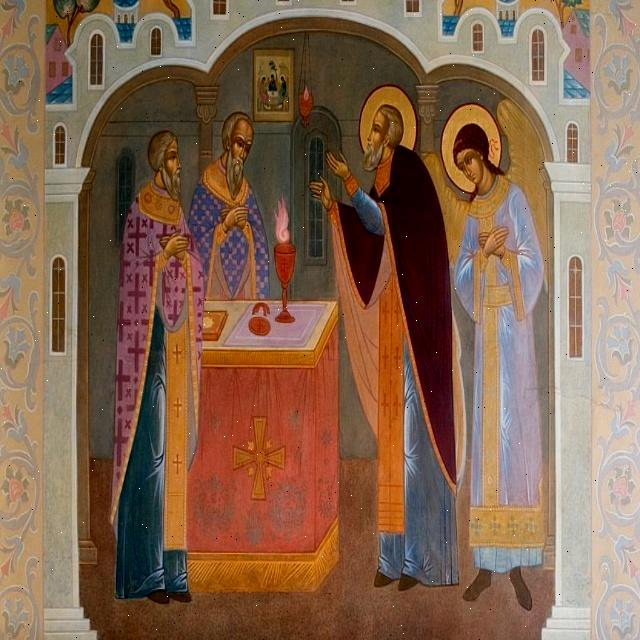angel: (422, 89, 562, 610)
apostle: (105, 122, 203, 612), (183, 103, 269, 296)
aura: (440, 104, 502, 188), (358, 82, 418, 161), (280, 75, 286, 84), (258, 76, 266, 82), (269, 72, 274, 81)
book: (203, 300, 228, 344)
chalice: (271, 239, 298, 328)
cross: (232, 412, 288, 514), (111, 414, 132, 472), (126, 274, 146, 317), (114, 300, 131, 349), (128, 213, 148, 254), (115, 353, 129, 405), (129, 331, 146, 370), (171, 393, 185, 422), (171, 452, 183, 479), (172, 341, 183, 367)
fire_tongue: (271, 196, 292, 243), (302, 81, 312, 99)
icon: (252, 48, 294, 120)
lamp: (295, 30, 314, 129)
plate: (248, 313, 272, 341)
saint: (325, 76, 468, 598)
wing: (497, 93, 561, 278), (419, 150, 468, 274)
